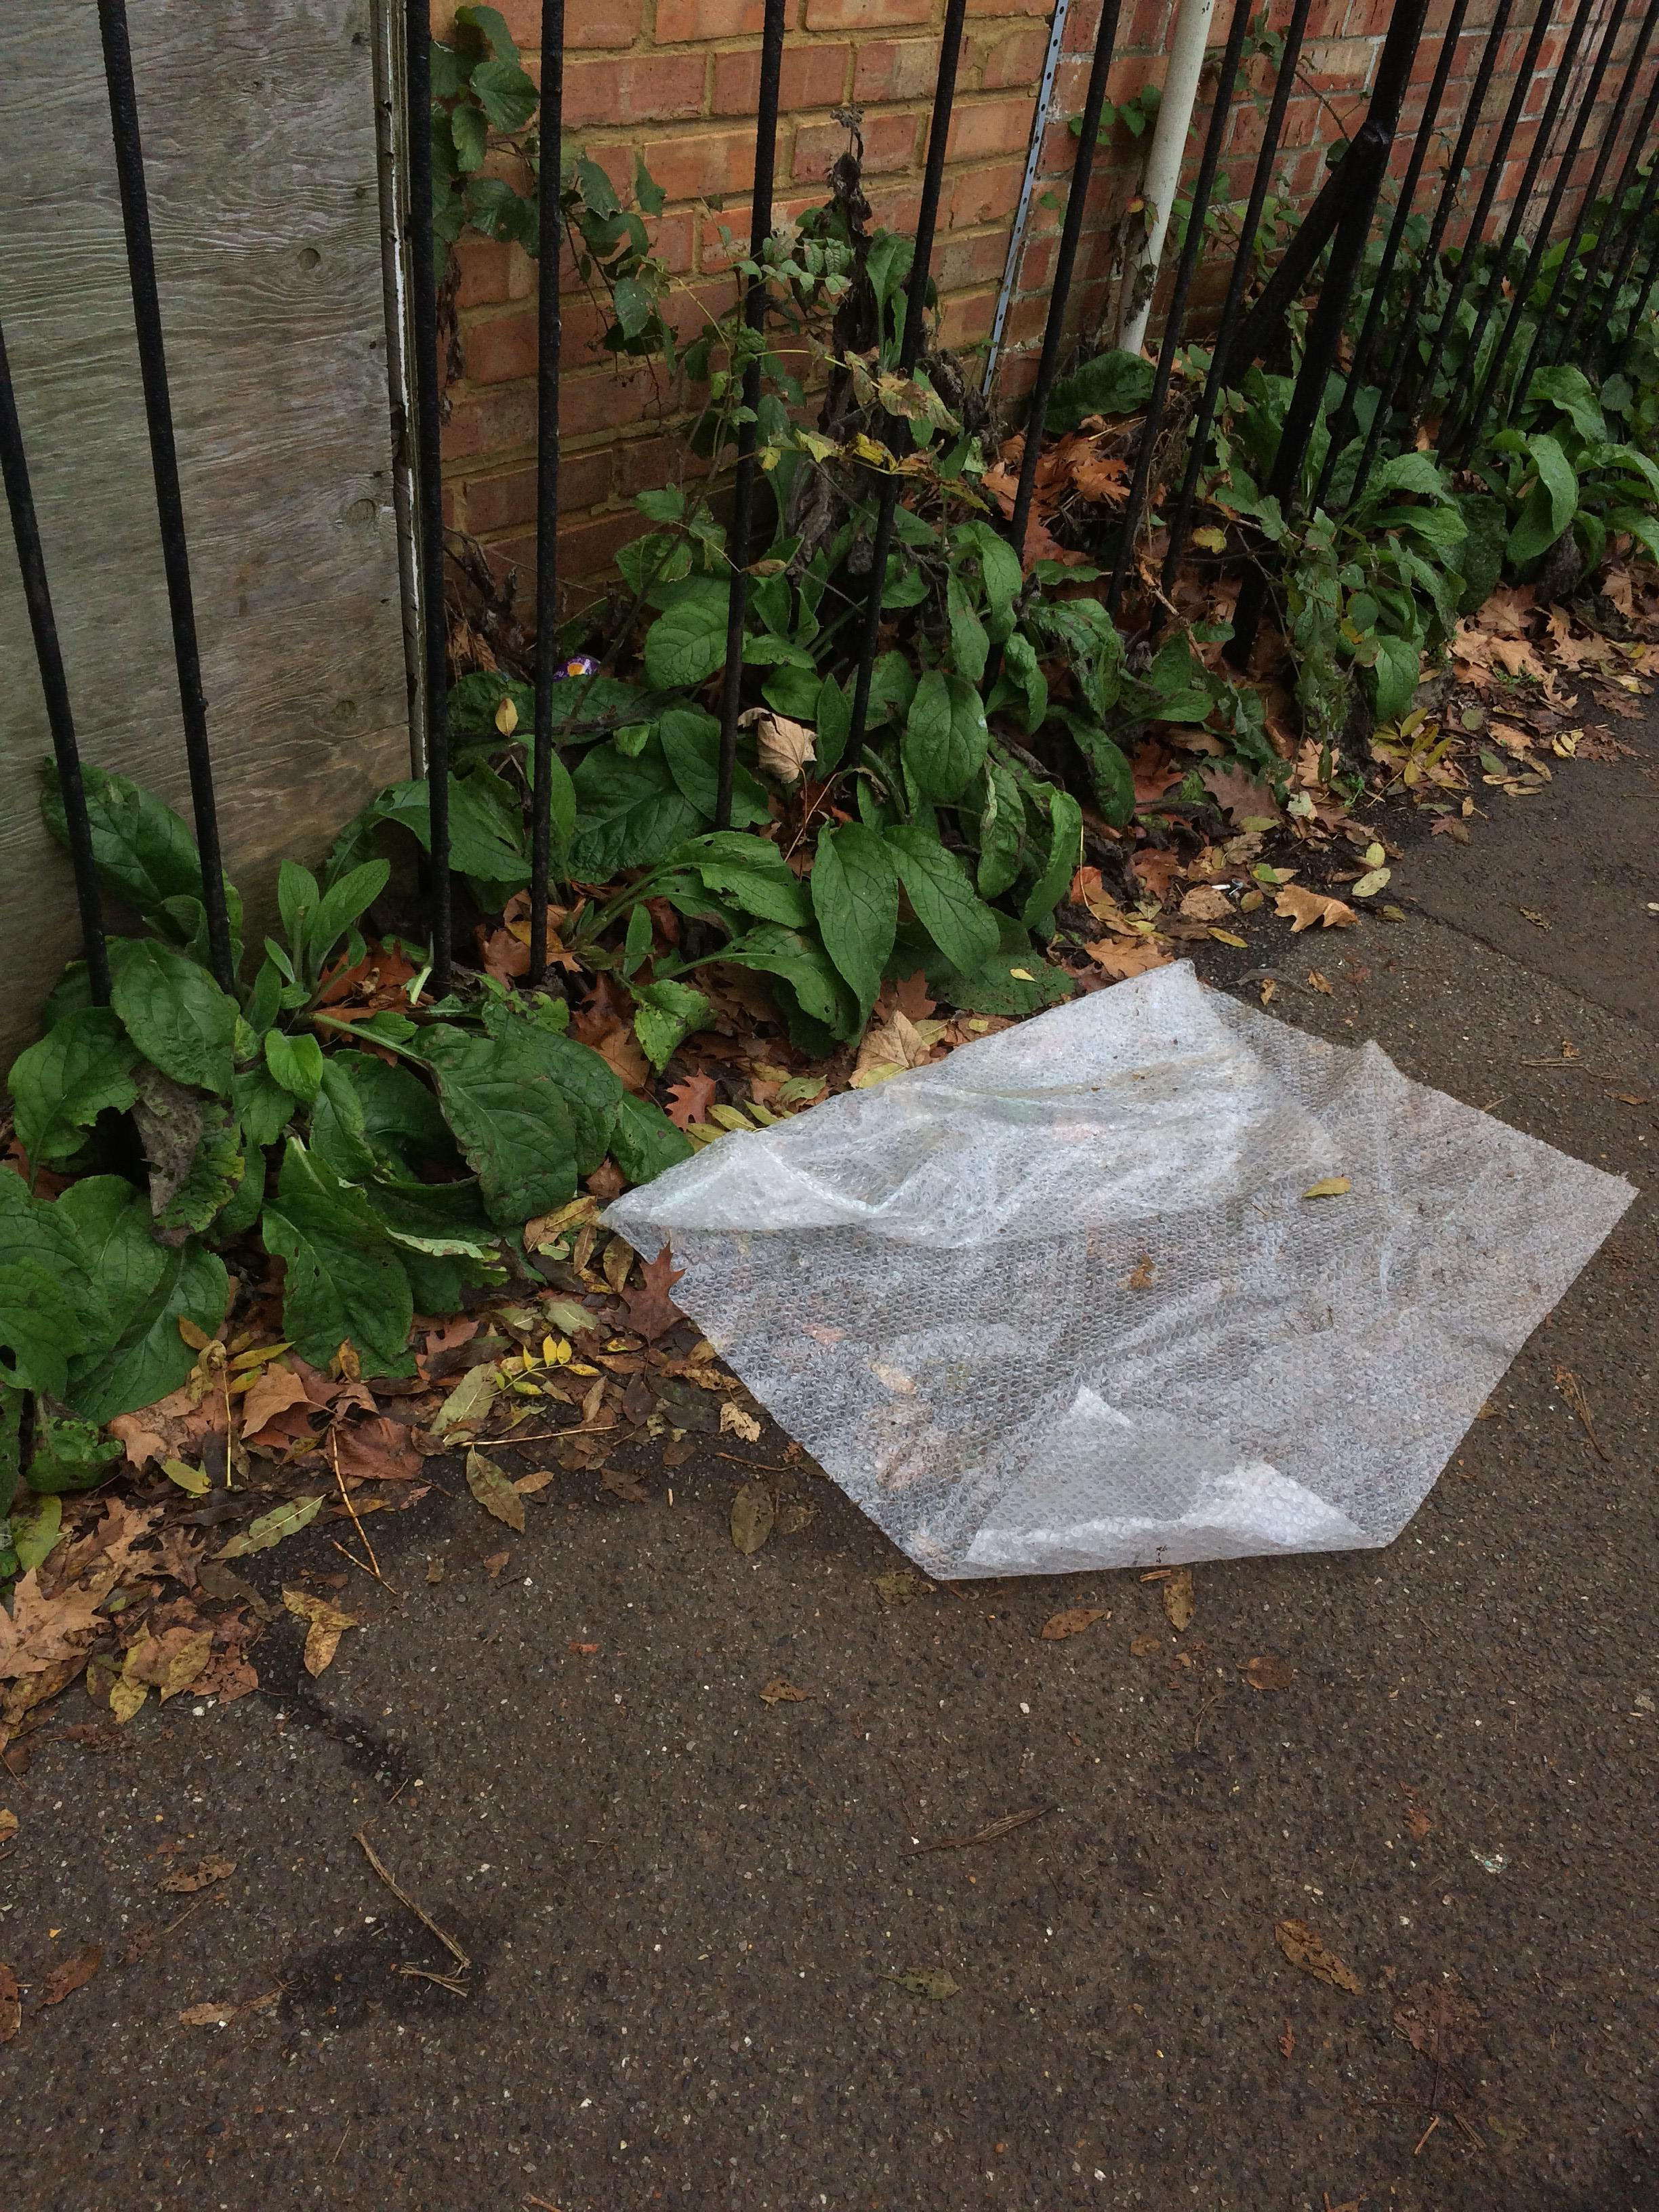Trash: (605, 974, 1635, 1594)
